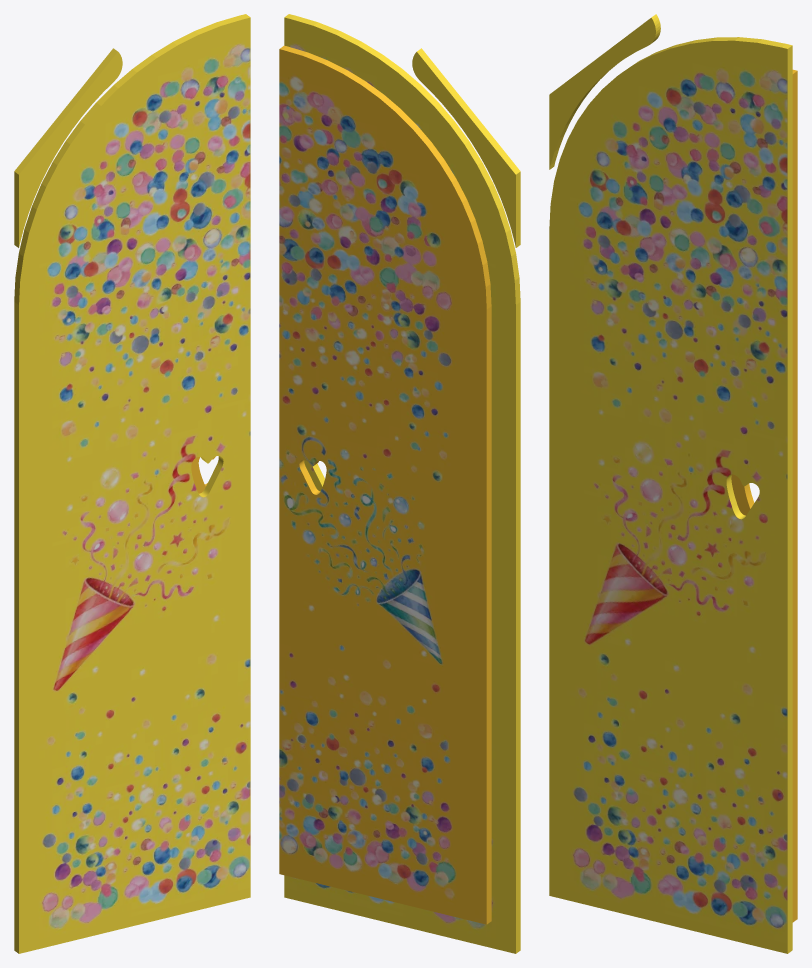
File: door-right-leaf.glb
3 renders of one model, left to right at view 1: azimuth 30°, elevation 25°; view 2: azimuth 150°, elevation 25°; view 3: azimuth 330°, elevation 25°, orthographic. The views are drawn at different scales.
Visible parts, largest first — view 1: door-right-leaf; view 2: door-right-leaf; view 3: door-right-leaf.
Part boxes in pixels (bbox=[...]): door-right-leaf: bbox=[14, 14, 250, 953]; door-right-leaf: bbox=[279, 14, 520, 953]; door-right-leaf: bbox=[549, 14, 797, 953].
Bounding box in the file's own units: 252 × 914 × 18.
Materials: 4 (2 with a texture image).
